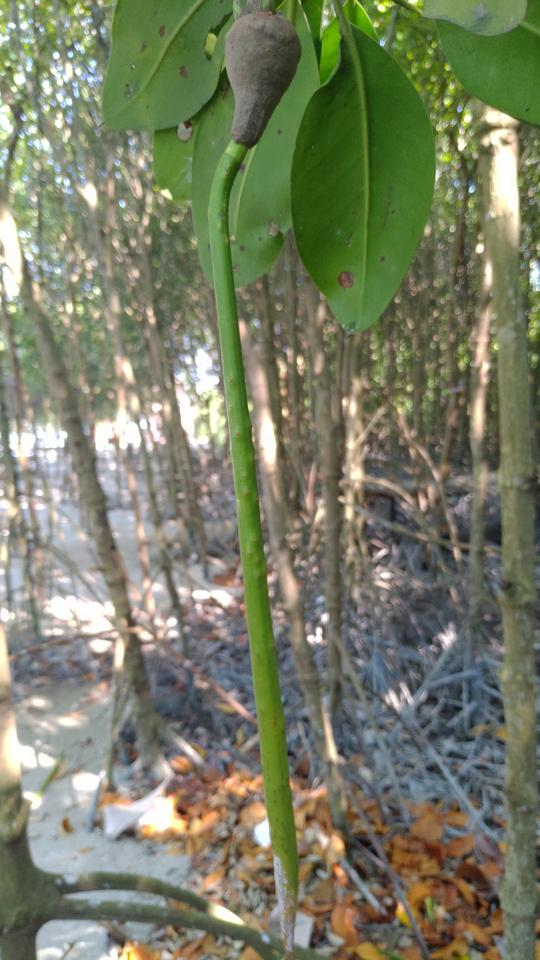setengah matang: (196, 4, 341, 949)
